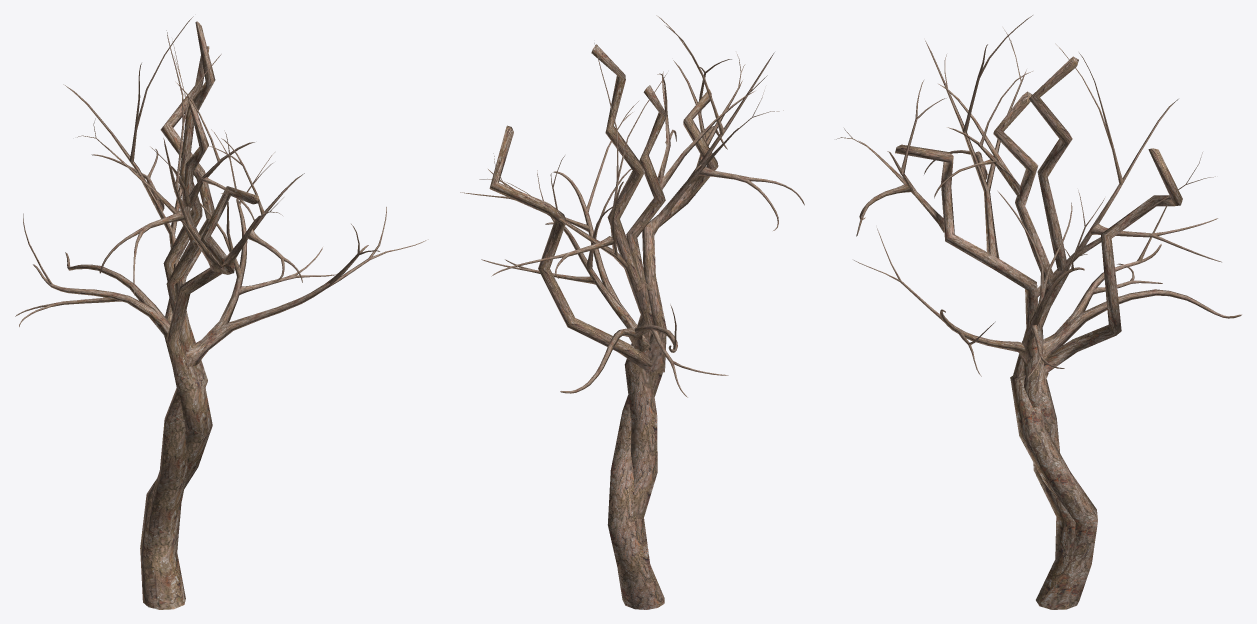
Rendered from arvore_retorcida_variante 2.fbx.
3 views of the same model, side by side, from view 1: azimuth 30°, elevation 25°; view 2: azimuth 150°, elevation 25°; view 3: azimuth 270°, elevation 25° (orthographic). The views are drawn at different scales.
Parts seen in each view (by area): view 1: bark02_0; view 2: bark02_0; view 3: bark02_0.
Part boxes in pixels (x1,y1,x2,y2): bark02_0: [15, 16, 428, 609]; bark02_0: [460, 15, 804, 609]; bark02_0: [836, 15, 1241, 609].
Size of the model in its own units: 295 by 475 by 303.
